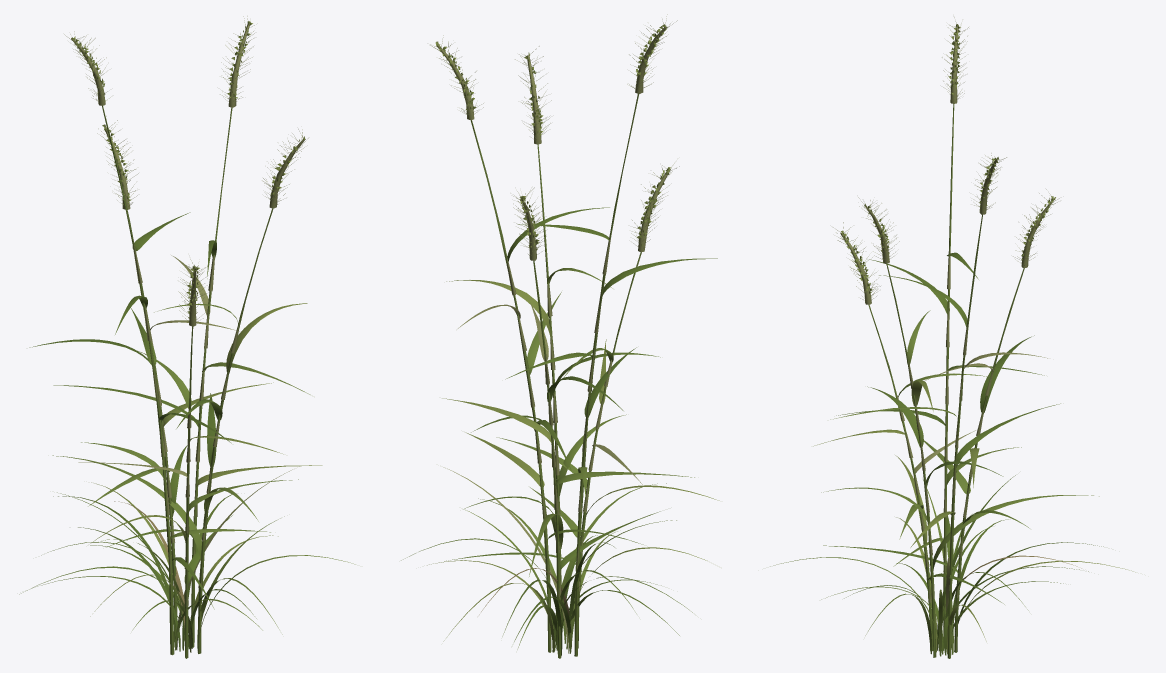
3 views of the same model, side by side, from view 1: azimuth 30°, elevation 25°; view 2: azimuth 150°, elevation 25°; view 3: azimuth 270°, elevation 25° (orthographic). The views are drawn at different scales.
Visible parts, largest first — view 1: Culms • Leaf green, Blades • Leaf green, Blades • Leaf forest, Blades • Leaf young, Leaf sheaths • Leaf olive, Blades • Leaf shaded, Seed rachis • Leaf olive, Seedlets • Leaf young, Bristles • Leaf olive, Blades • Leaf olive; view 2: Culms • Leaf green, Blades • Leaf forest, Blades • Leaf green, Blades • Leaf young, Leaf sheaths • Leaf olive, Seed rachis • Leaf olive, Blades • Leaf shaded, Seedlets • Leaf young, Bristles • Leaf olive, Blades • Leaf olive; view 3: Culms • Leaf green, Blades • Leaf forest, Blades • Leaf green, Leaf sheaths • Leaf olive, Blades • Leaf young, Blades • Leaf shaded, Seed rachis • Leaf olive, Seedlets • Leaf young, Bristles • Leaf olive, Blades • Leaf olive.
Boxes of the visible parts, x1,y1,x2,y2 form: Culms • Leaf green: (102, 105, 273, 658); Blades • Leaf green: (52, 303, 355, 650); Blades • Leaf forest: (19, 212, 232, 650); Blades • Leaf young: (90, 303, 322, 652); Leaf sheaths • Leaf olive: (133, 244, 239, 606); Blades • Leaf shaded: (29, 339, 256, 651); Seed rachis • Leaf olive: (71, 23, 305, 326); Seedlets • Leaf young: (71, 21, 305, 318); Bristles • Leaf olive: (64, 16, 308, 321); Blades • Leaf olive: (78, 255, 292, 649); Culms • Leaf green: (470, 93, 641, 658); Blades • Leaf forest: (401, 207, 717, 651); Blades • Leaf green: (464, 268, 694, 653); Blades • Leaf young: (427, 280, 719, 652); Leaf sheaths • Leaf olive: (507, 234, 612, 597); Seed rachis • Leaf olive: (437, 26, 670, 260); Blades • Leaf shaded: (471, 347, 636, 655); Seedlets • Leaf young: (435, 24, 670, 255); Bristles • Leaf olive: (430, 14, 679, 255); Blades • Leaf olive: (443, 302, 642, 653); Culms • Leaf green: (868, 104, 1024, 658); Blades • Leaf forest: (823, 252, 1063, 655); Blades • Leaf green: (770, 310, 1099, 656); Leaf sheaths • Leaf olive: (896, 249, 994, 602); Blades • Leaf young: (813, 380, 1135, 654); Blades • Leaf shaded: (836, 335, 1103, 650); Seed rachis • Leaf olive: (840, 24, 1054, 304); Seedlets • Leaf young: (841, 24, 1055, 296); Bristles • Leaf olive: (833, 17, 1059, 299); Blades • Leaf olive: (914, 352, 1047, 611).
Size of the model in its own units: 0.3091 by 0.6495 by 0.3958.
